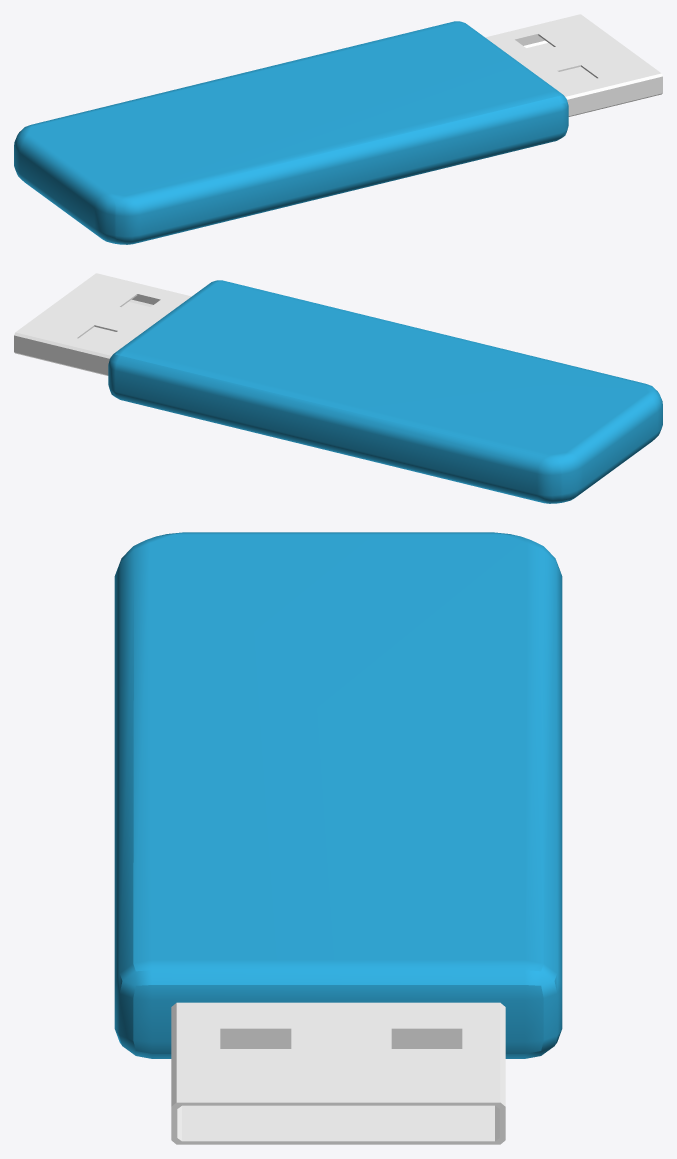
File: USB_2.fbx
3 renders of one model, top to bottom at view 1: azimuth 30°, elevation 25°; view 2: azimuth 150°, elevation 25°; view 3: azimuth 270°, elevation 25°, orthographic. The views are drawn at different scales.
Parts seen in each view (by area): view 1: USB; view 2: USB; view 3: USB.
Part boxes in pixels (left/top/right/bottom): USB: left=14, top=14, right=662, bottom=244; USB: left=14, top=273, right=662, bottom=503; USB: left=114, top=532, right=562, bottom=1144.
Size of the model in its own units: 2.64 by 0.2149 by 0.9075.
